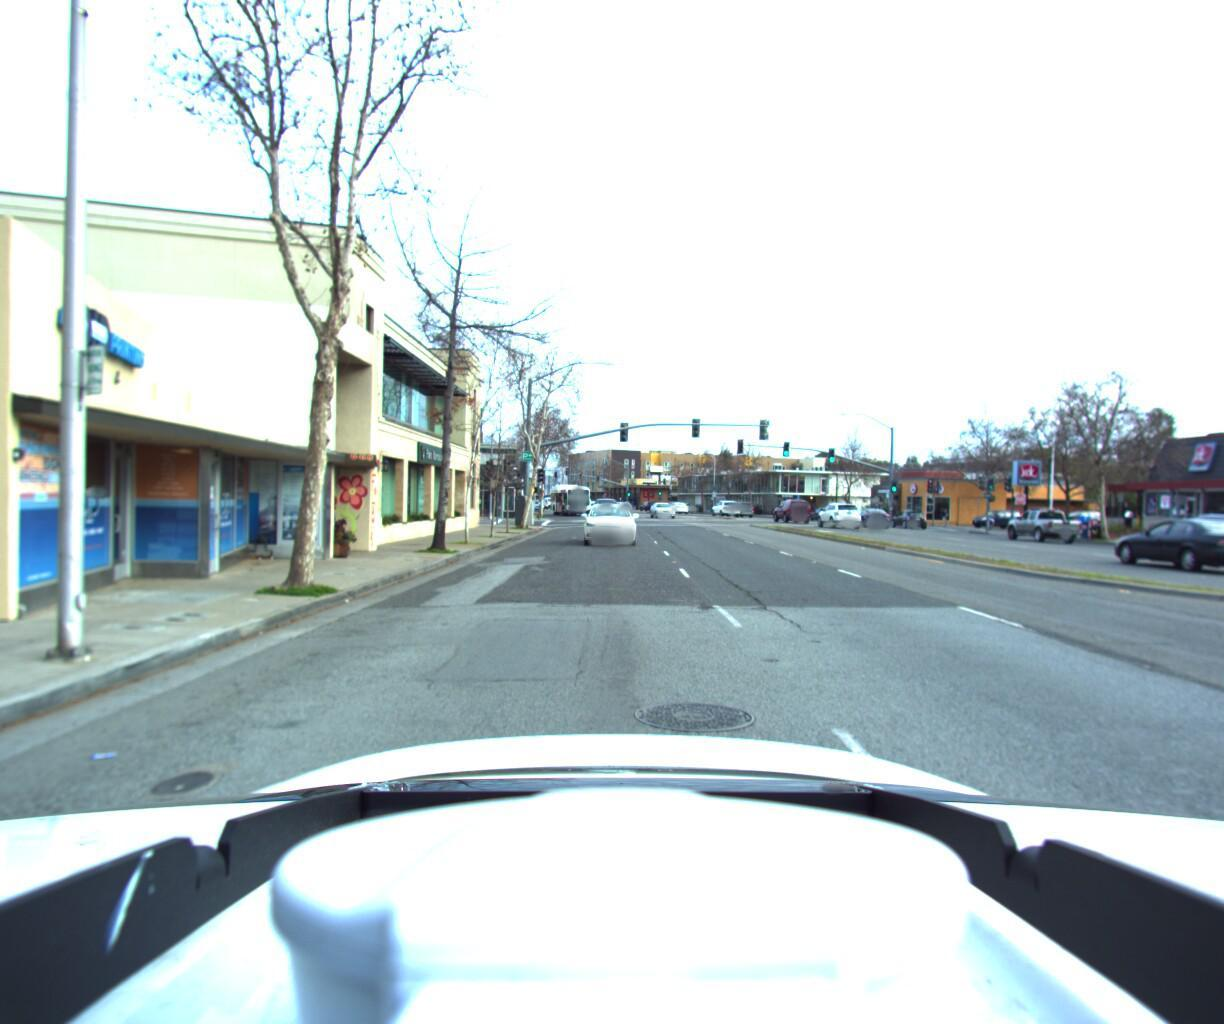bus: (546, 482, 594, 517)
car: (1090, 515, 1224, 573), (1145, 509, 1224, 556), (999, 505, 1078, 541), (582, 501, 638, 545), (966, 505, 1029, 528), (812, 501, 860, 527), (770, 497, 810, 521), (845, 506, 889, 526), (883, 505, 922, 525), (708, 498, 740, 516), (650, 502, 677, 519)
